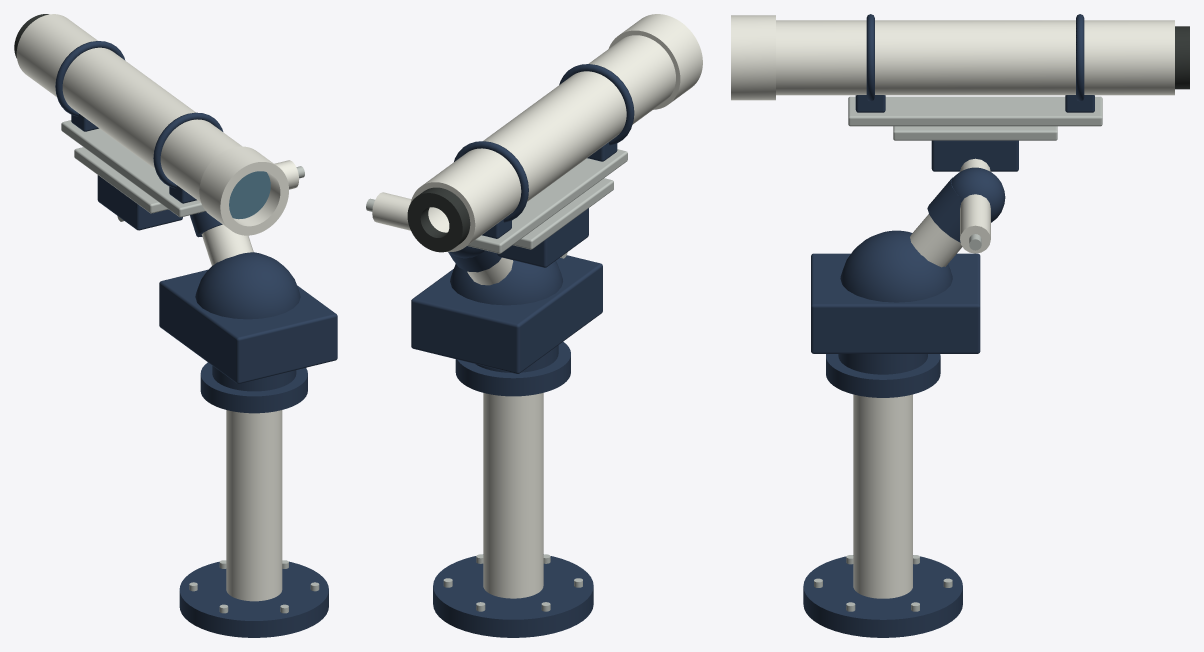
The model's file is telescope.glb.
3 renders of one model, left to right at view 1: azimuth 30°, elevation 25°; view 2: azimuth 150°, elevation 25°; view 3: azimuth 270°, elevation 25°, orthographic. The views are drawn at different scales.
Visible parts, largest first — view 1: 049-telescope-pier/2, 049-telescope-pier/1, 049-telescope-pier/0, 052-refracting-telescope-tube/4; view 2: 049-telescope-pier/1, 049-telescope-pier/2, 049-telescope-pier/0, 050-equatorial-mount/1; view 3: 049-telescope-pier/1, 049-telescope-pier/2, 049-telescope-pier/0, 050-equatorial-mount/1.
Boxes of the visible parts, x1,y1,x2,y2 form: 049-telescope-pier/2: (55,41,337,637); 049-telescope-pier/1: (16,14,299,601); 049-telescope-pier/0: (61,120,319,613); 052-refracting-telescope-tube/4: (229,171,270,219); 049-telescope-pier/1: (372,14,702,598); 049-telescope-pier/2: (411,64,634,637); 049-telescope-pier/0: (366,149,627,611); 050-equatorial-mount/1: (407,187,470,252); 049-telescope-pier/1: (731,15,1174,598); 049-telescope-pier/2: (803,14,1094,637); 049-telescope-pier/0: (814,96,1102,611); 050-equatorial-mount/1: (1175,26,1189,89).
Bounding box in the file's own units: 0.976 × 2.43 × 1.84.
